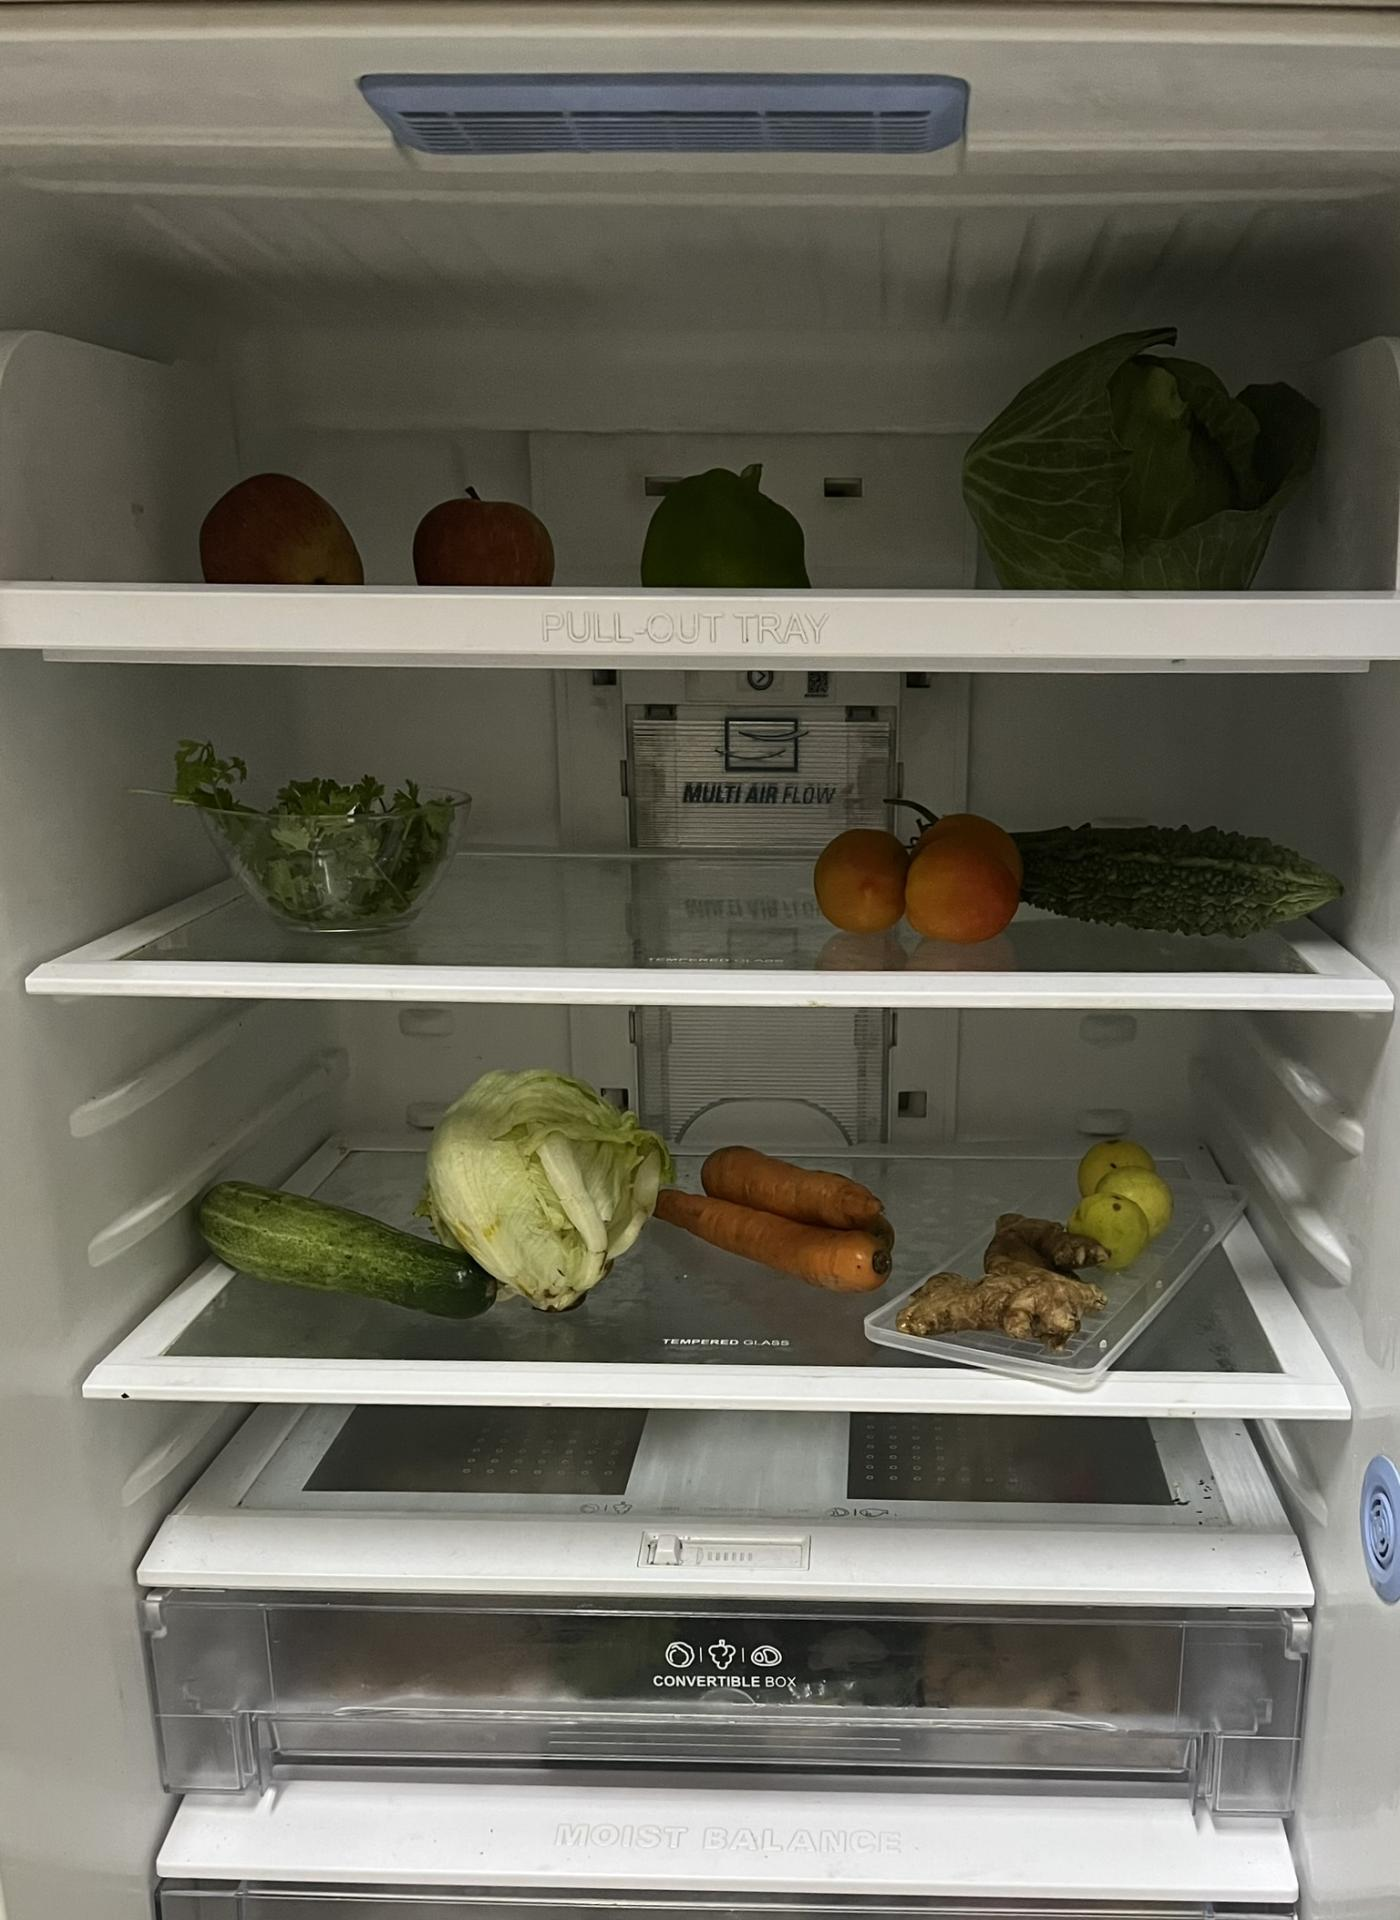apple: (204, 476, 562, 590)
bitter gourd: (978, 827, 1349, 929)
cabbage: (972, 325, 1319, 593)
capsicum: (644, 468, 814, 587)
carrots: (656, 1148, 896, 1291)
coriander: (182, 741, 462, 935)
cucumber: (188, 1175, 498, 1309)
ginger: (896, 1206, 1109, 1354)
lemon: (1069, 1131, 1176, 1254)
lettuce: (425, 1072, 662, 1312)
tomato: (808, 803, 1024, 956)
